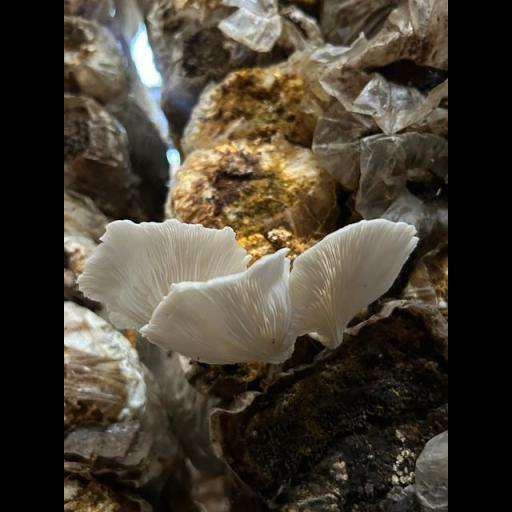White Oyster Mushroom: (79, 208, 422, 367)
